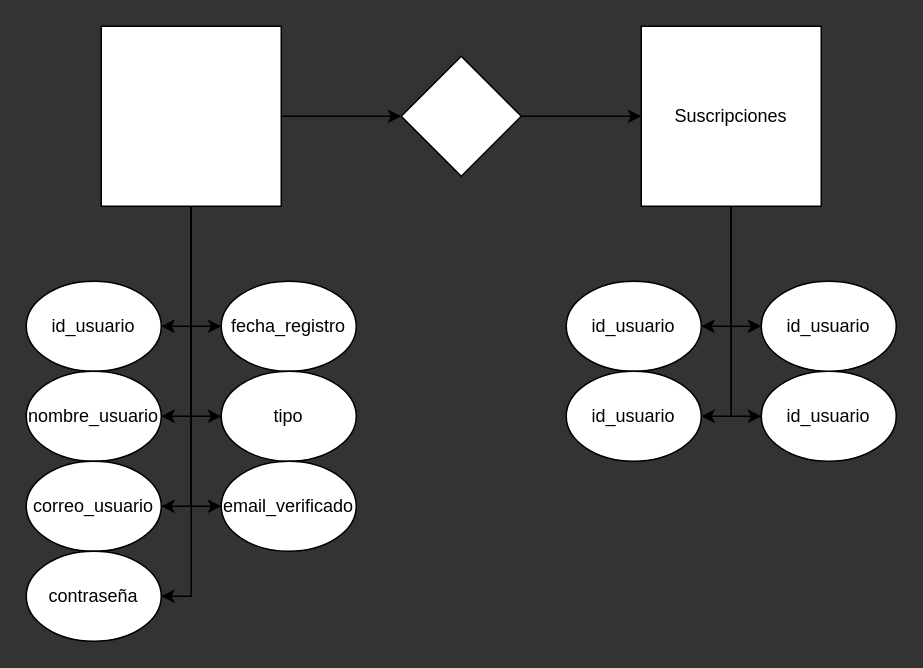
The diagram is 923 pixels wide and 668 high, and some of its shapes have lost their labels. The centre of each missing label's shape, as x and y in pixels:
"Compra" belongs at (460,115).
"Usuarios" belongs at (190,115).
